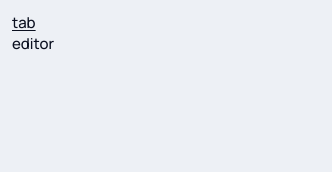
Test case: useLeaveGuard › lets links through when nothing is unsaved
Click the link "tab" at (24, 22), box [12,12,36,33]
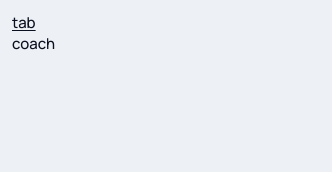
expect the text "coach" is shown: met, box [12,33,55,54]
